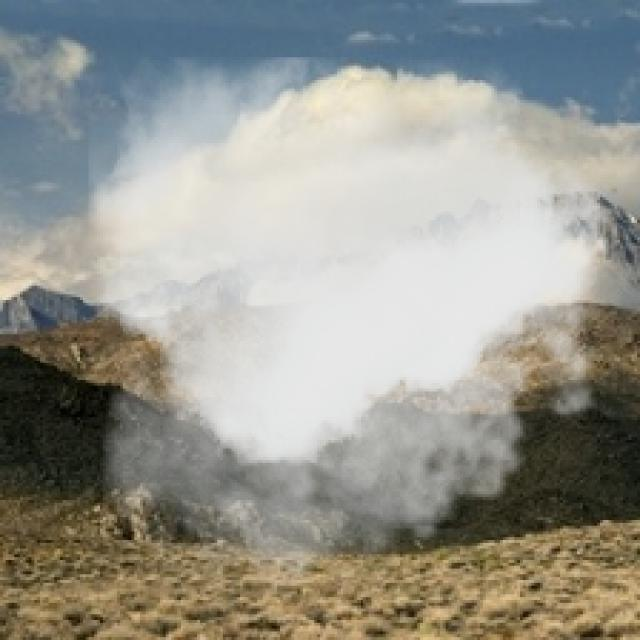smoke: (89, 57, 632, 609)
